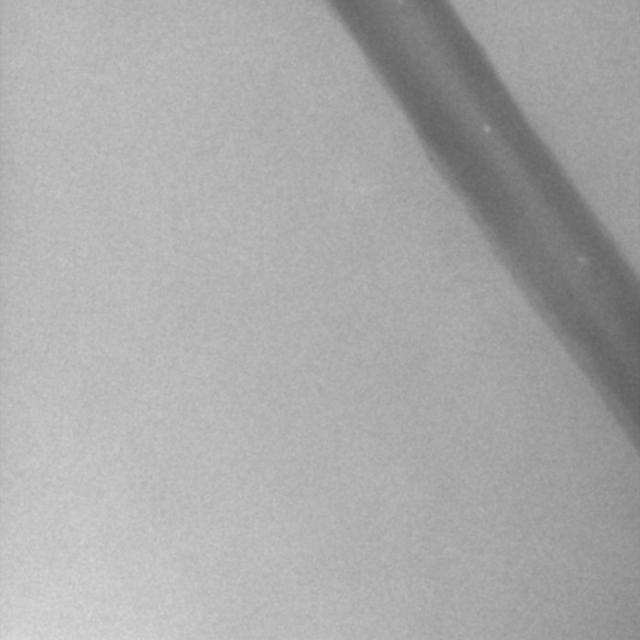air hole: (482, 122, 491, 134)
